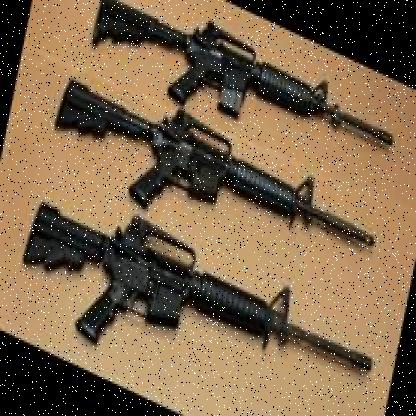rifle: (15, 172, 398, 416), (45, 55, 387, 301), (82, 0, 400, 195)
